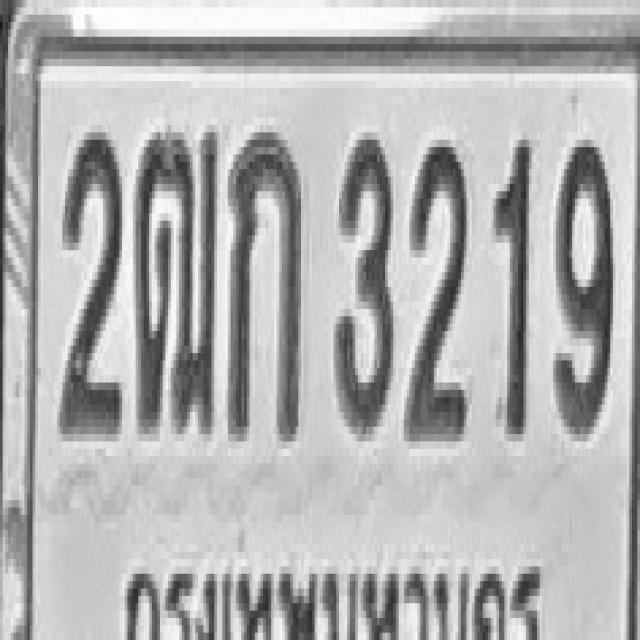1: (492, 132, 530, 434)
10GorGai: (228, 125, 301, 441)
2: (58, 125, 121, 434), (405, 136, 468, 438)
27ThorPhuThao: (134, 125, 218, 434)
3: (334, 132, 393, 434)
9: (553, 136, 613, 430)
